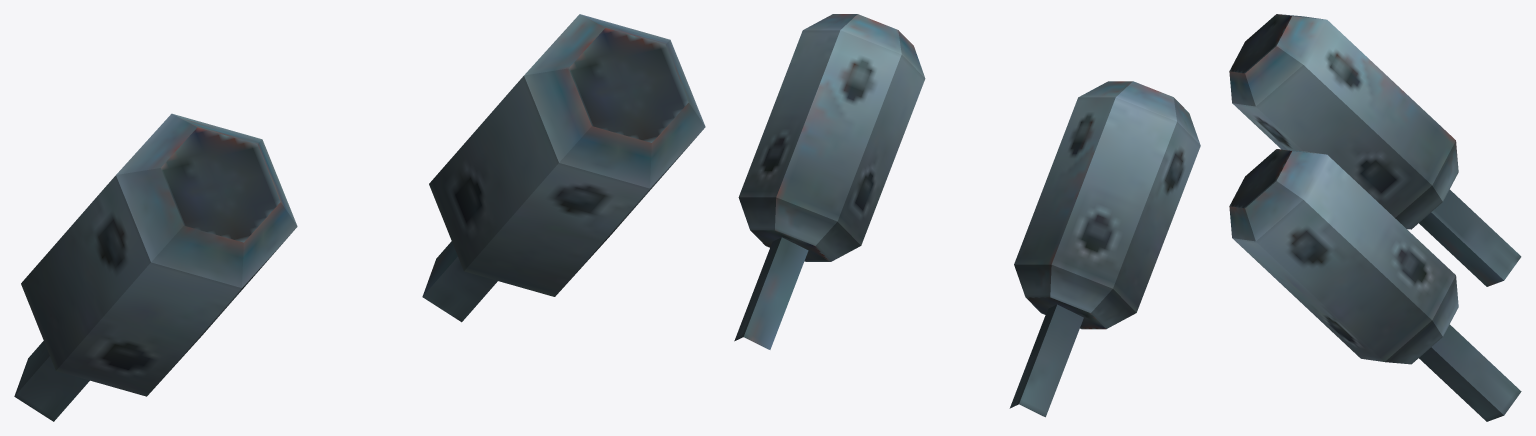
Rendered from Kart 2 Thruster.glb.
3 renders of one model, left to right at view 1: azimuth 30°, elevation 25°; view 2: azimuth 150°, elevation 25°; view 3: azimuth 270°, elevation 25°, orthographic. The views are drawn at different scales.
Visible parts, largest first — view 1: thrusters; view 2: thrusters; view 3: thrusters.
Boxes of the visible parts, bbox=[...] form: thrusters: bbox=[14, 14, 705, 421]; thrusters: bbox=[734, 14, 1200, 417]; thrusters: bbox=[1229, 14, 1521, 421].
Size of the model in its own units: 1.3 by 0.8944 by 0.8744.
Materials: 1 (1 with a texture image).
